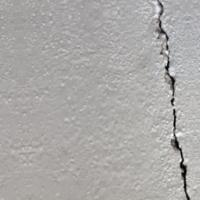crack: (147, 0, 199, 199)
